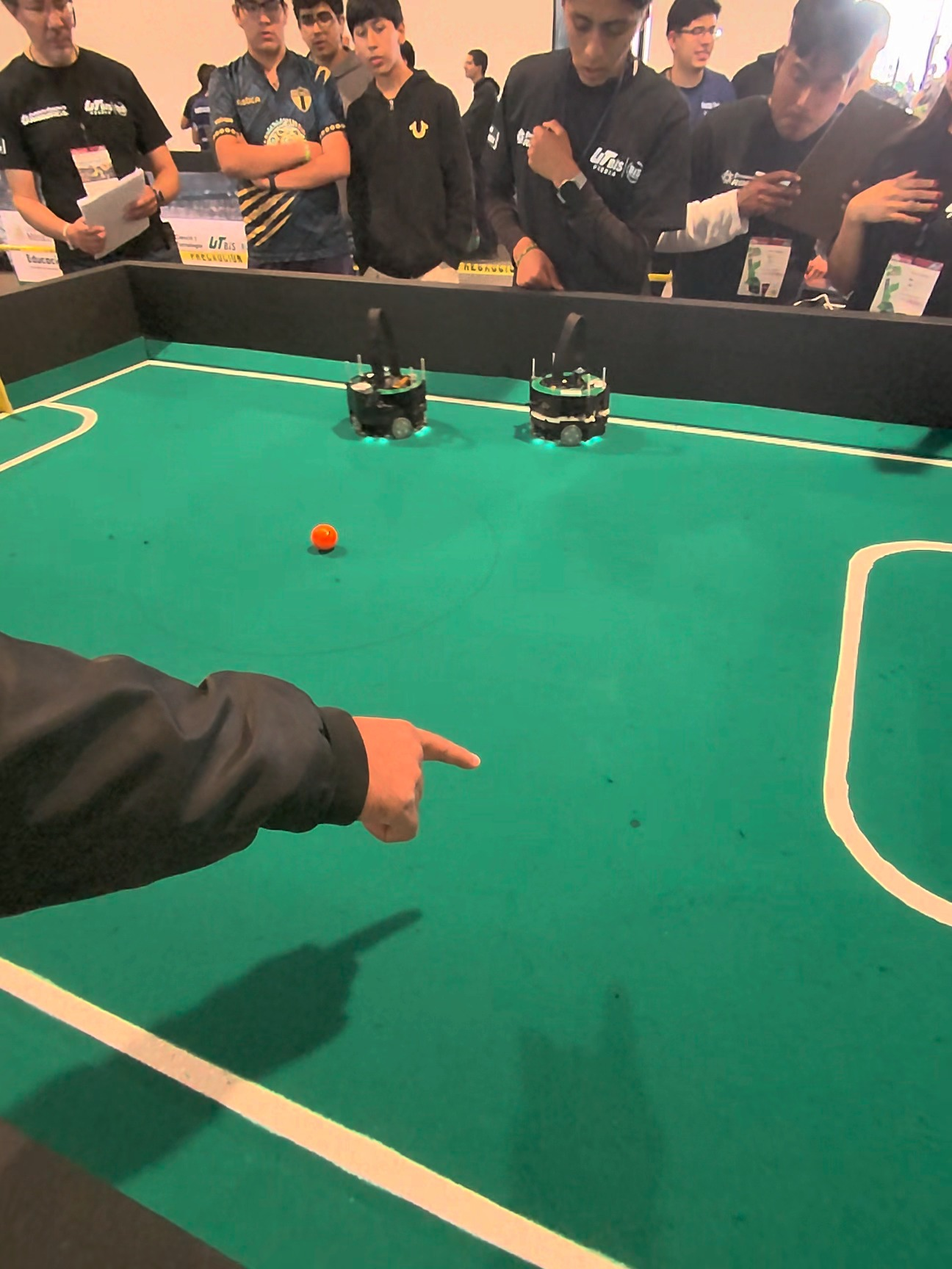Robot: (515, 305, 615, 464), (341, 306, 435, 463)
pelota: (310, 526, 339, 556)
